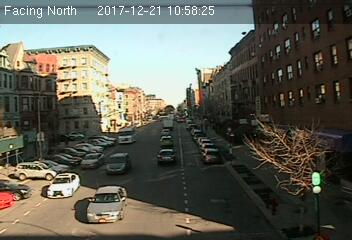car: (86, 184, 127, 224), (46, 171, 81, 200), (106, 152, 131, 174), (79, 153, 105, 169), (156, 148, 176, 164), (202, 150, 221, 164), (159, 134, 174, 147)
truck: (117, 126, 136, 143)
